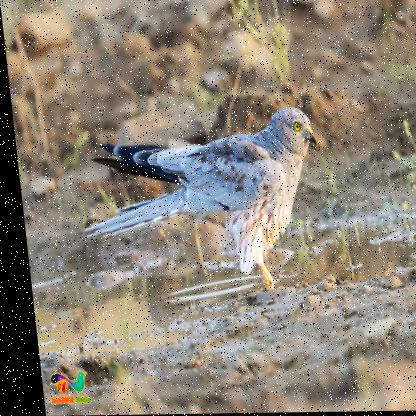Burung: (65, 101, 332, 299)
